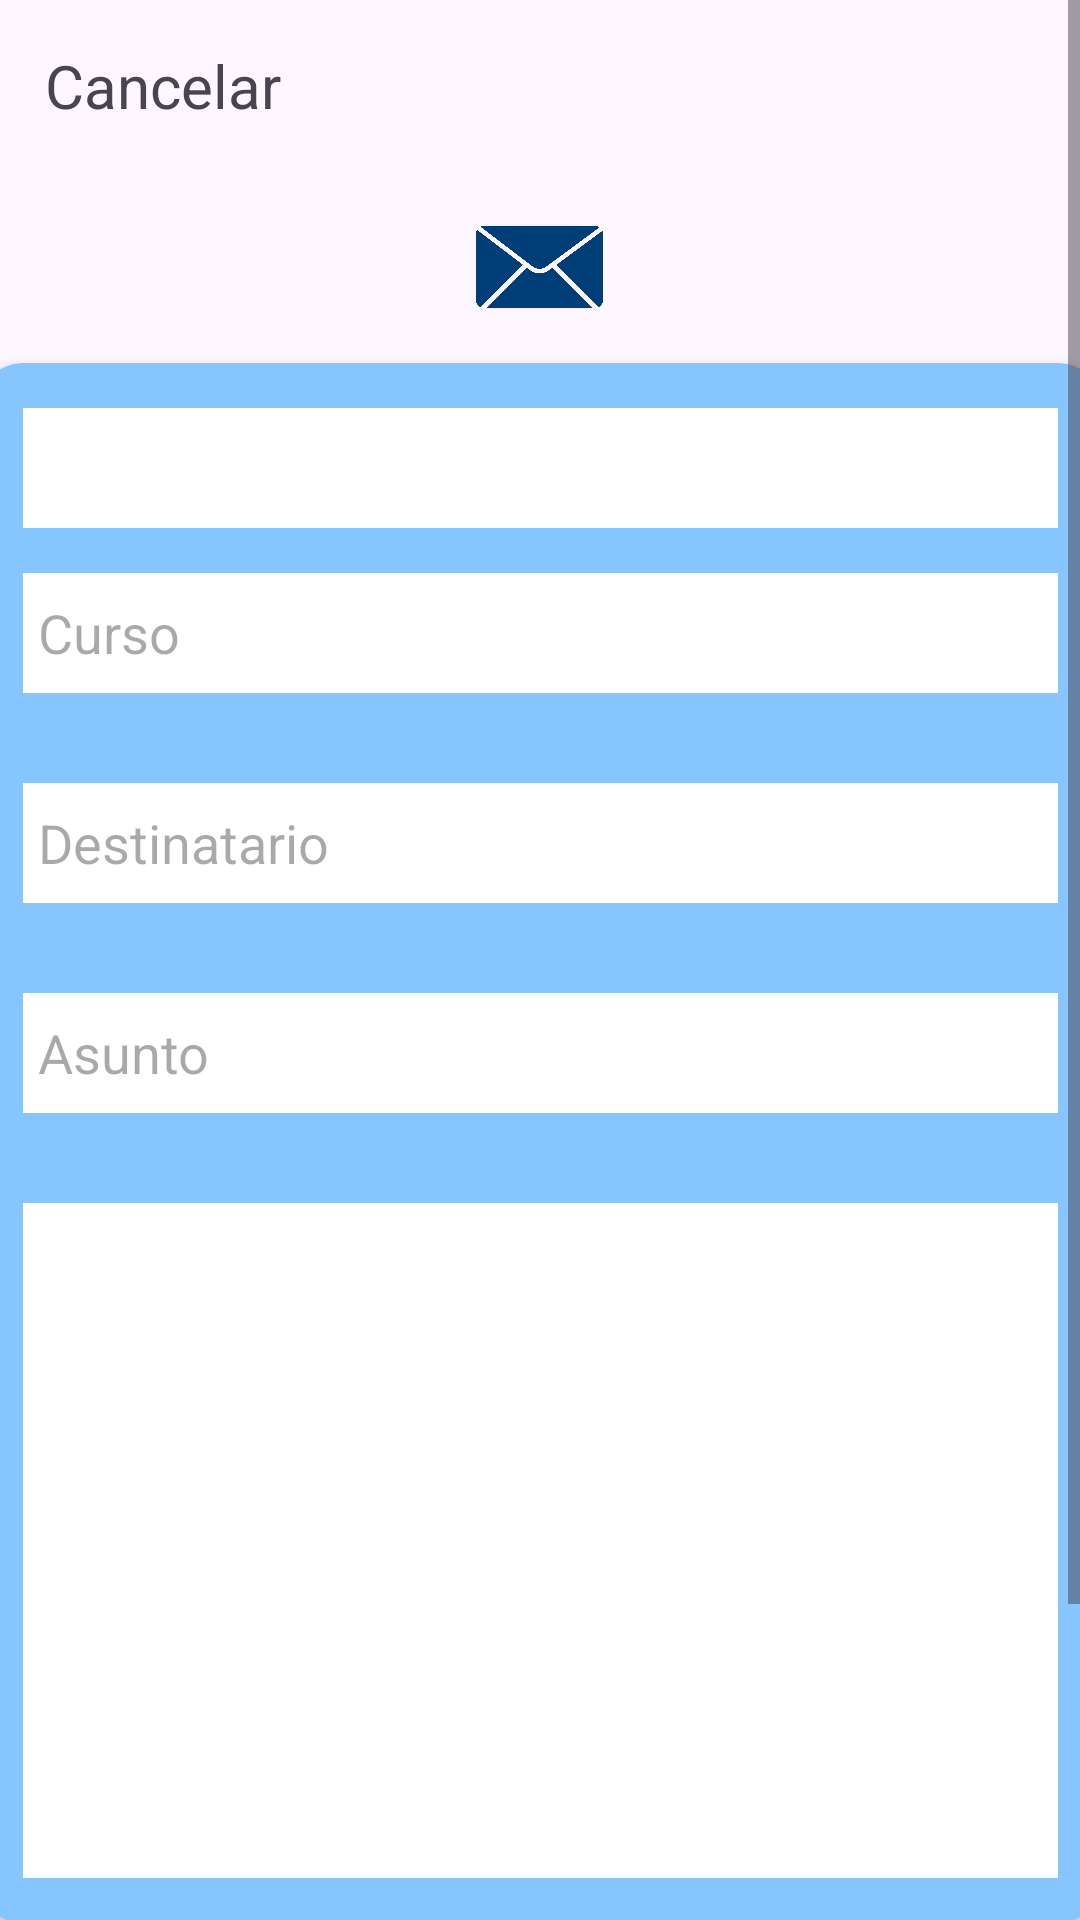

Screen size 1080x1920. Icon name, then its center in pixels as point (x, y):
correo: point (539, 267)
